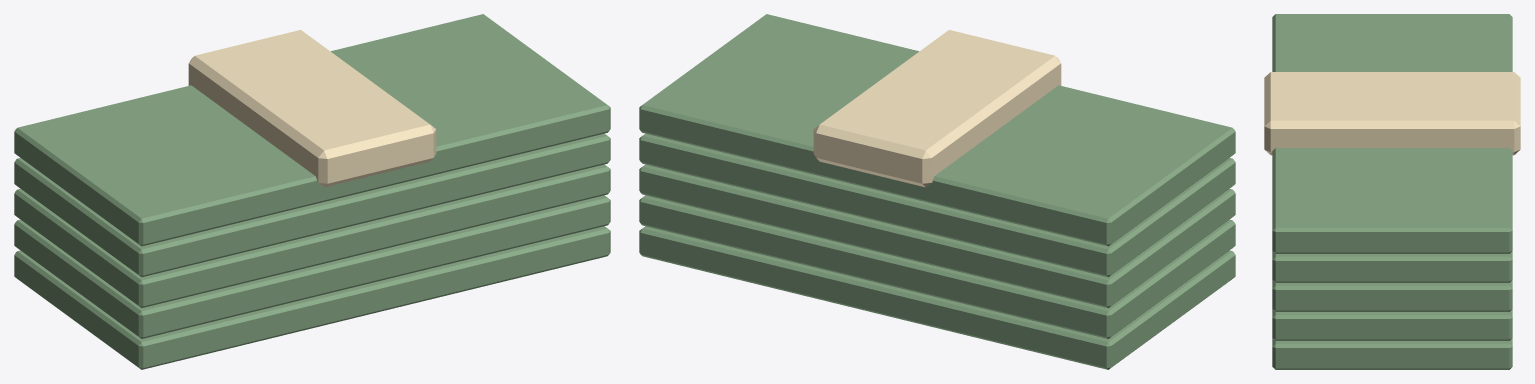
File: Prop_CashStack.fbx
The picture shows the model from 3 angles, left to right: view 1: azimuth 30°, elevation 25°; view 2: azimuth 150°, elevation 25°; view 3: azimuth 270°, elevation 25°; orthographic projection. The views are drawn at different scales.
Parts seen in each view (by area): view 1: Notes.004, Band.002, Notes.001, Notes.003, Notes, Notes.002; view 2: Notes.004, Band.002, Notes.001, Notes.003, Notes, Notes.002; view 3: Notes.004, Band.002, Notes.002, Notes.003, Notes, Notes.001.
Boxes of the visible parts, box(x1,y1,x2,y2) form: Notes.004: box(14, 14, 610, 246); Band.002: box(188, 30, 436, 187); Notes.001: box(14, 195, 610, 338); Notes.003: box(14, 133, 610, 277); Notes: box(14, 226, 610, 369); Notes.002: box(14, 164, 610, 308); Notes.004: box(639, 14, 1235, 246); Band.002: box(813, 30, 1061, 187); Notes.001: box(639, 195, 1235, 338); Notes.003: box(639, 133, 1235, 277); Notes: box(639, 226, 1235, 369); Notes.002: box(639, 164, 1235, 308); Notes.004: box(1272, 14, 1512, 253); Band.002: box(1264, 72, 1520, 155); Notes.002: box(1272, 280, 1512, 311); Notes.003: box(1272, 251, 1512, 282); Notes: box(1272, 338, 1512, 369); Notes.001: box(1272, 309, 1512, 340).
Size of the model in its own units: 0.16 by 0.0575 by 0.08.
